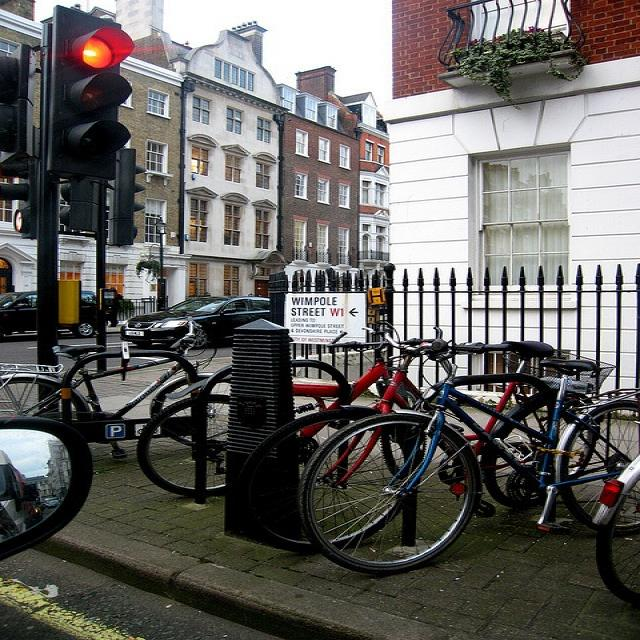bicycle: (131, 331, 389, 496), (236, 325, 420, 535), (417, 324, 595, 509), (300, 415, 476, 565), (0, 312, 212, 415), (588, 452, 637, 608)
car: (118, 294, 266, 346), (0, 288, 97, 337)
pole: (27, 18, 69, 414)
